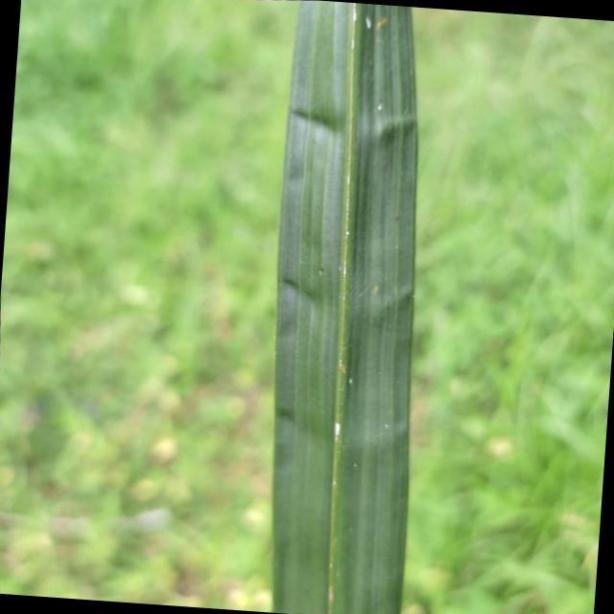Boron: (269, 0, 422, 614)
